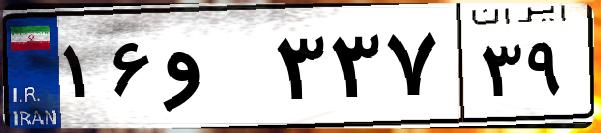1: (57, 26, 110, 100)
3: (270, 28, 330, 110), (330, 28, 385, 110), (475, 38, 525, 113)
6: (110, 28, 158, 98)
7: (385, 28, 445, 110)
9: (525, 38, 570, 115)
و: (158, 20, 270, 120)
